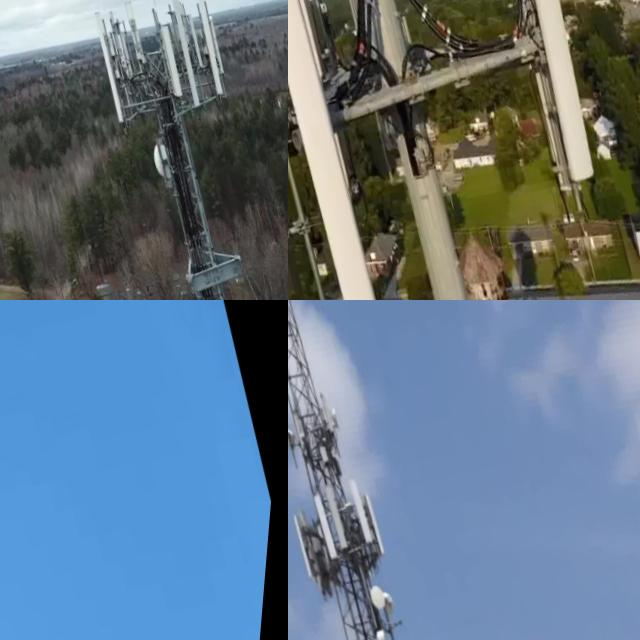GSM Antenna: (288, 0, 434, 300), (462, 0, 640, 186), (474, 0, 606, 186), (314, 0, 434, 164), (84, 0, 154, 133), (165, 0, 216, 103), (189, 0, 241, 85), (155, 15, 198, 95), (324, 473, 365, 554), (292, 503, 333, 584), (349, 467, 389, 548), (313, 483, 353, 561), (365, 486, 399, 557), (320, 384, 346, 432)
Microwave Antenna: (150, 126, 191, 189), (288, 410, 311, 457), (374, 572, 401, 612), (331, 396, 354, 433), (380, 618, 406, 640), (388, 579, 407, 609)
